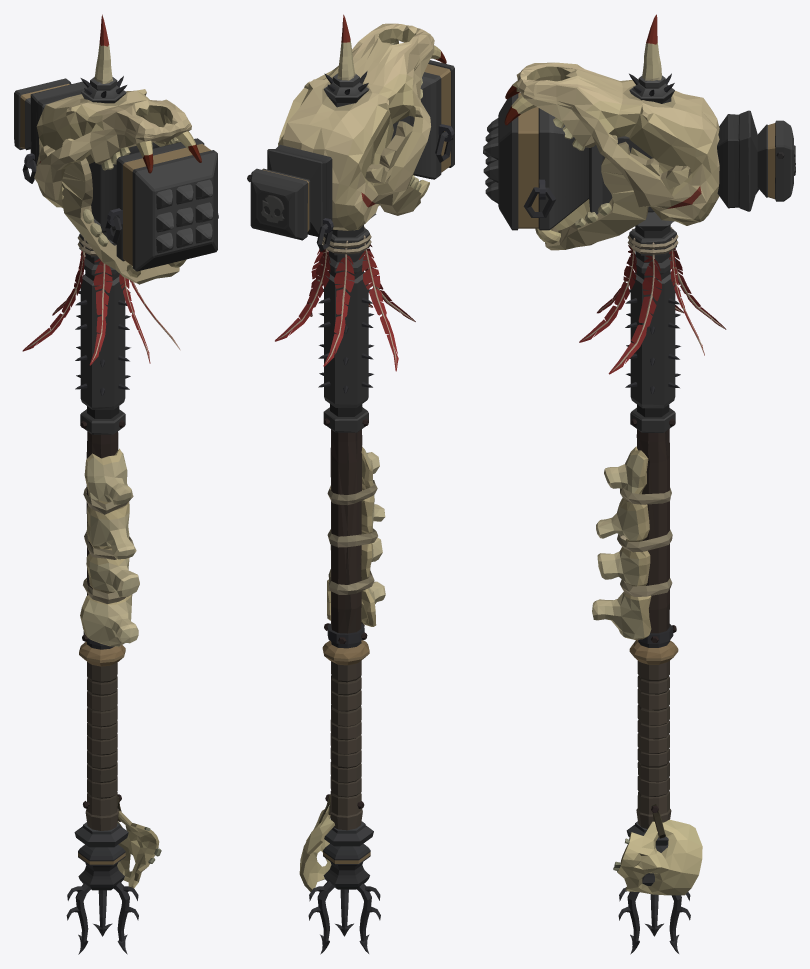
Rendered from bluntHeavyBarbarianHammer.glb.
The picture shows the model from 3 angles, left to right: view 1: azimuth 30°, elevation 25°; view 2: azimuth 150°, elevation 25°; view 3: azimuth 270°, elevation 25°; orthographic projection.
Parts seen in each view (by area): view 1: bluntHeavyBarbarianHammer; view 2: bluntHeavyBarbarianHammer; view 3: bluntHeavyBarbarianHammer.
Part boxes in pixels (box(x1,y1,x2,y2)): bluntHeavyBarbarianHammer: box(14, 14, 218, 954); bluntHeavyBarbarianHammer: box(247, 14, 454, 954); bluntHeavyBarbarianHammer: box(483, 14, 795, 954).
Size of the model in its own units: 0.2382 by 1.57 by 0.4768.
